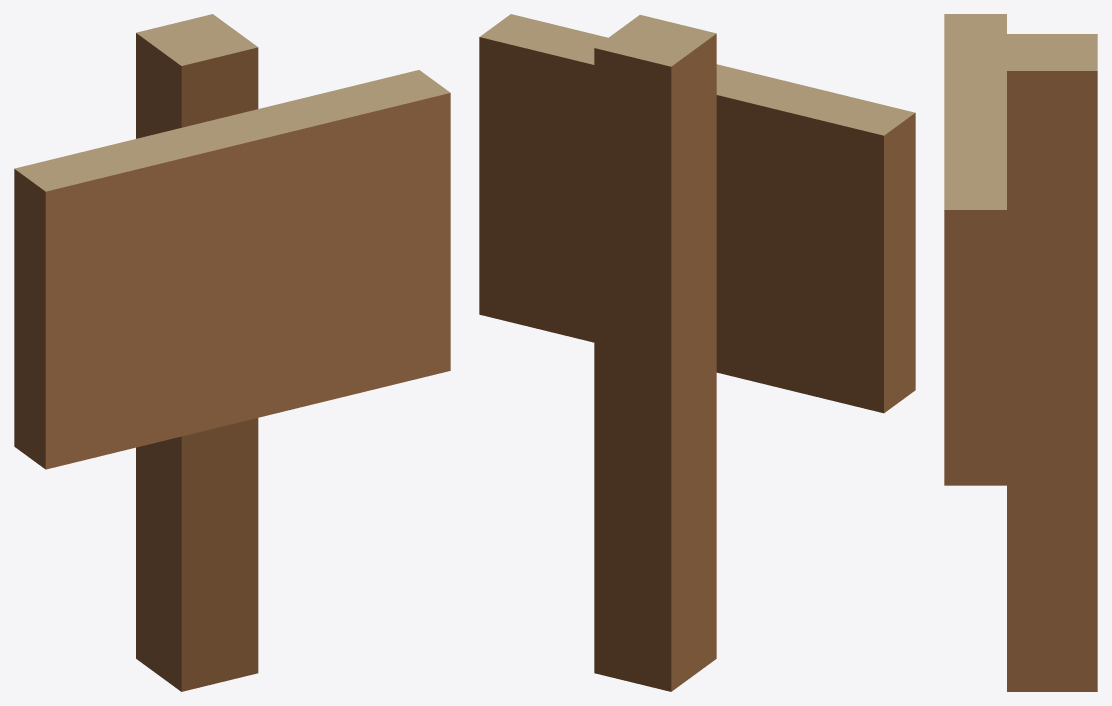
The model's file is TB_D_Prop_Sign_Small_B.FBX.
3 views of the same model, side by side, from view 1: azimuth 30°, elevation 25°; view 2: azimuth 150°, elevation 25°; view 3: azimuth 270°, elevation 25° (orthographic).
Visible parts, largest first — view 1: TB_D_Prop_Sign_Small_B; view 2: TB_D_Prop_Sign_Small_B; view 3: TB_D_Prop_Sign_Small_B.
Boxes of the visible parts, left/top/right/bottom form: TB_D_Prop_Sign_Small_B: left=14, top=14, right=450, bottom=691; TB_D_Prop_Sign_Small_B: left=479, top=14, right=915, bottom=691; TB_D_Prop_Sign_Small_B: left=944, top=14, right=1097, bottom=691.
Size of the model in its own units: 0.8771 by 1.3 by 0.2894.
